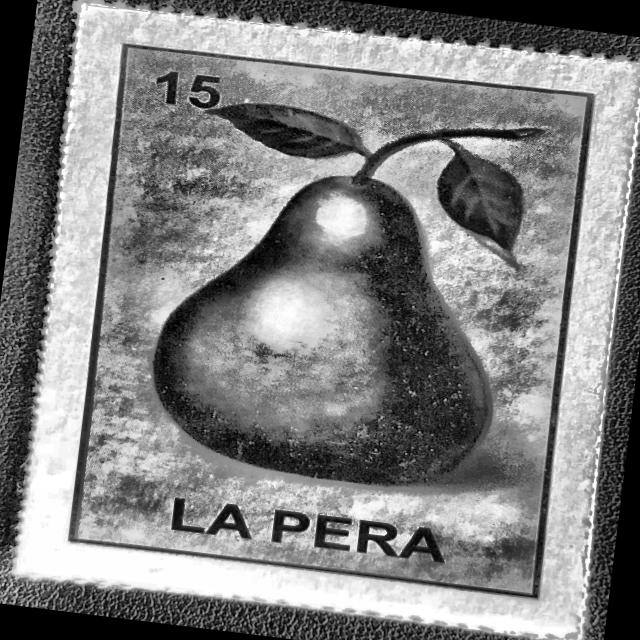La Pera: (34, 19, 634, 626)
